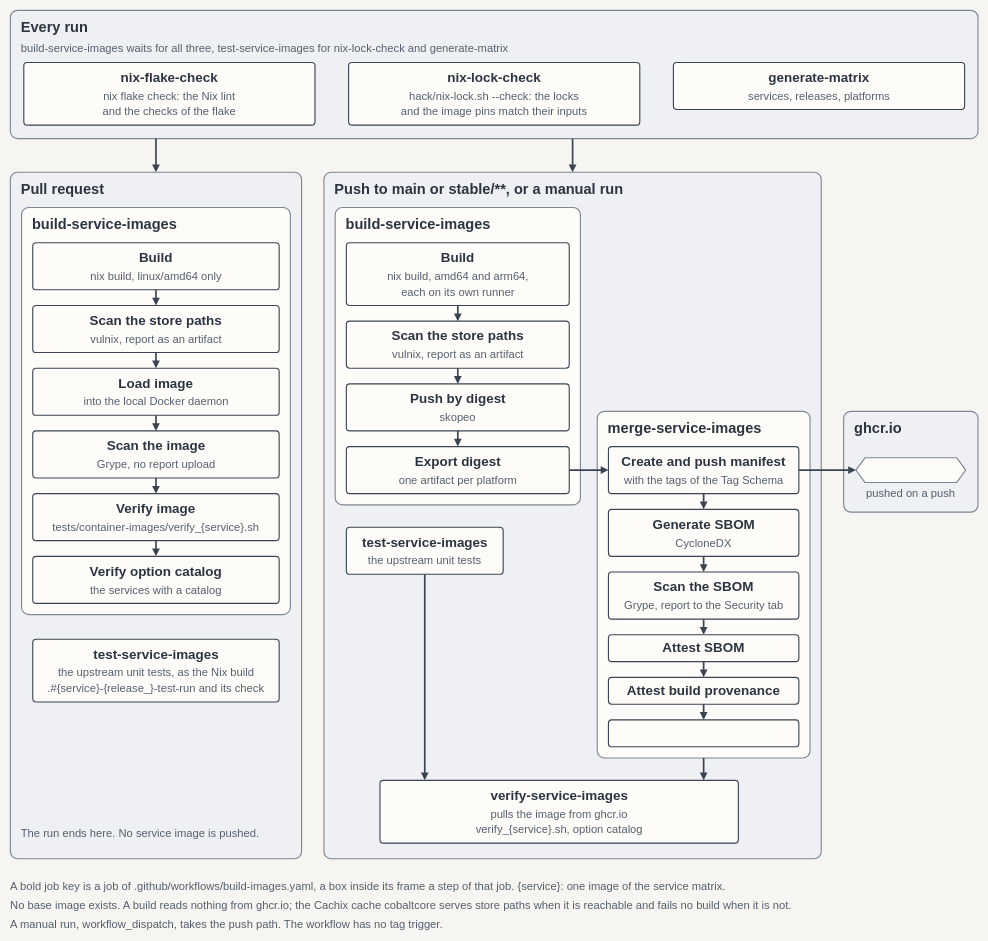
Some shapes in this 988 by 941 pixel diagram are drawn without their labels. Each missing label, with the box of its shape:
Sign with cosign: (608, 719, 799, 747)
{service}: (855, 457, 966, 483)
